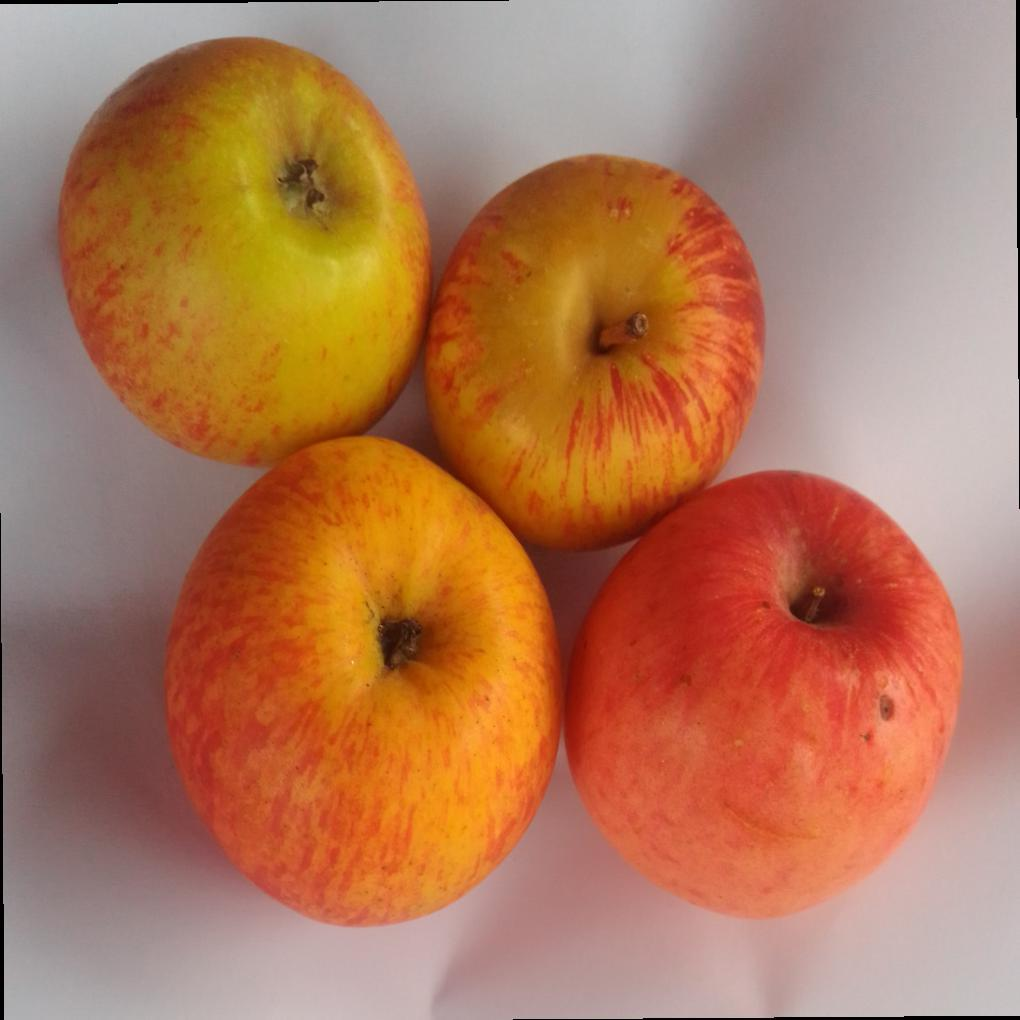FreshGuava: (56, 35, 957, 932)
